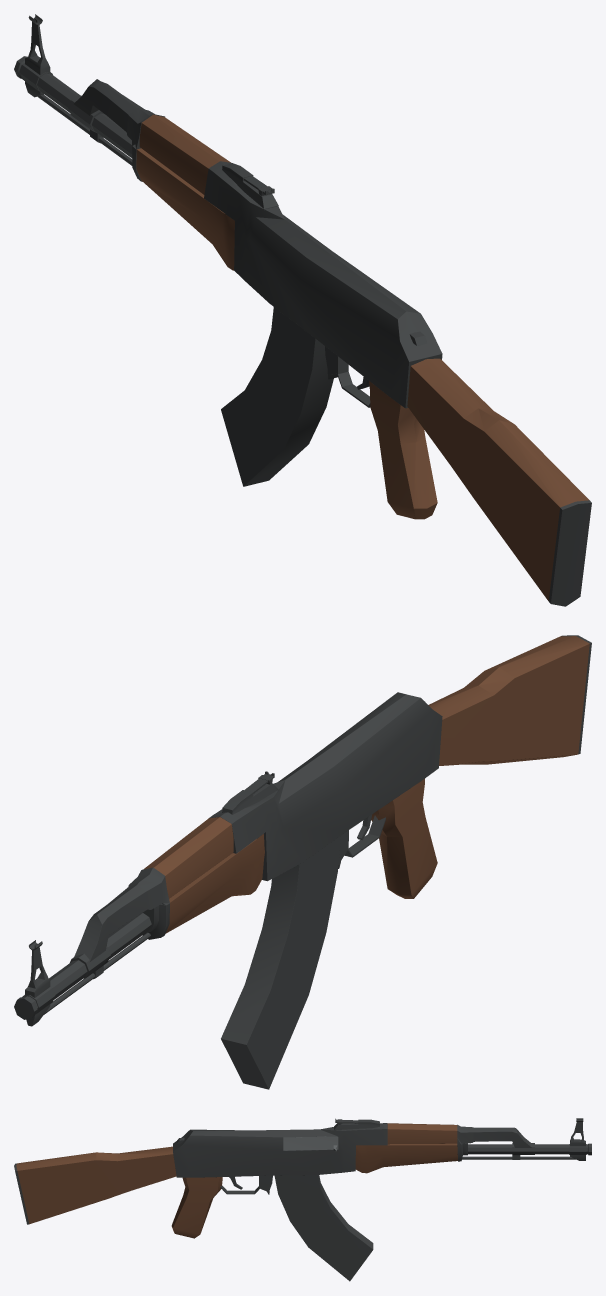
3 views of the same model, one above another, from view 1: azimuth 30°, elevation 25°; view 2: azimuth 150°, elevation 25°; view 3: azimuth 270°, elevation 25° (orthographic). The views are drawn at different scales.
Parts seen in each view (by area): view 1: Cube; view 2: Cube; view 3: Cube.
Part boxes in pixels (<box>): Cube: <box>14,14,591,606</box>; Cube: <box>14,635,591,1089</box>; Cube: <box>14,1118,591,1281</box>.
Size of the model in its own units: 0.047 by 0.3038 by 1.
